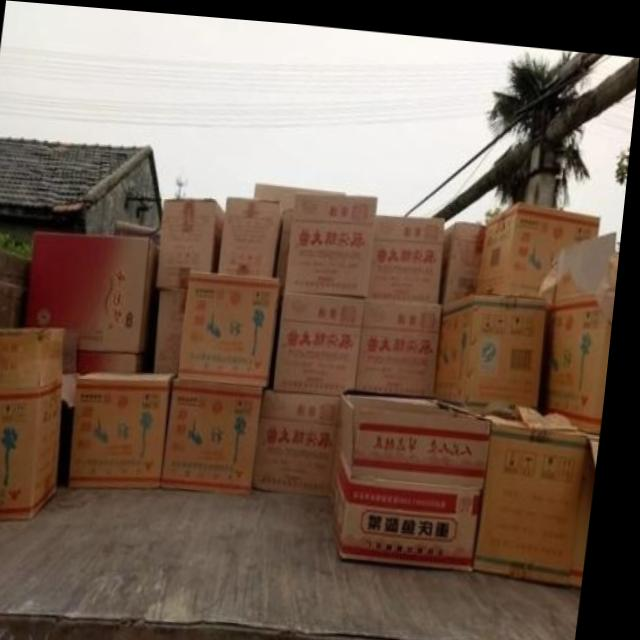box: (338, 387, 499, 563), (474, 396, 593, 576), (33, 231, 164, 350), (548, 222, 624, 423), (0, 324, 71, 522), (441, 288, 554, 401), (79, 367, 183, 486), (170, 370, 272, 490), (480, 193, 605, 289), (184, 268, 289, 381), (260, 384, 350, 491), (280, 288, 372, 389), (256, 179, 350, 277), (289, 187, 379, 289), (362, 291, 448, 390), (161, 195, 230, 287), (372, 209, 447, 293), (222, 192, 289, 271), (444, 212, 488, 297), (83, 348, 148, 371), (70, 327, 86, 371)
